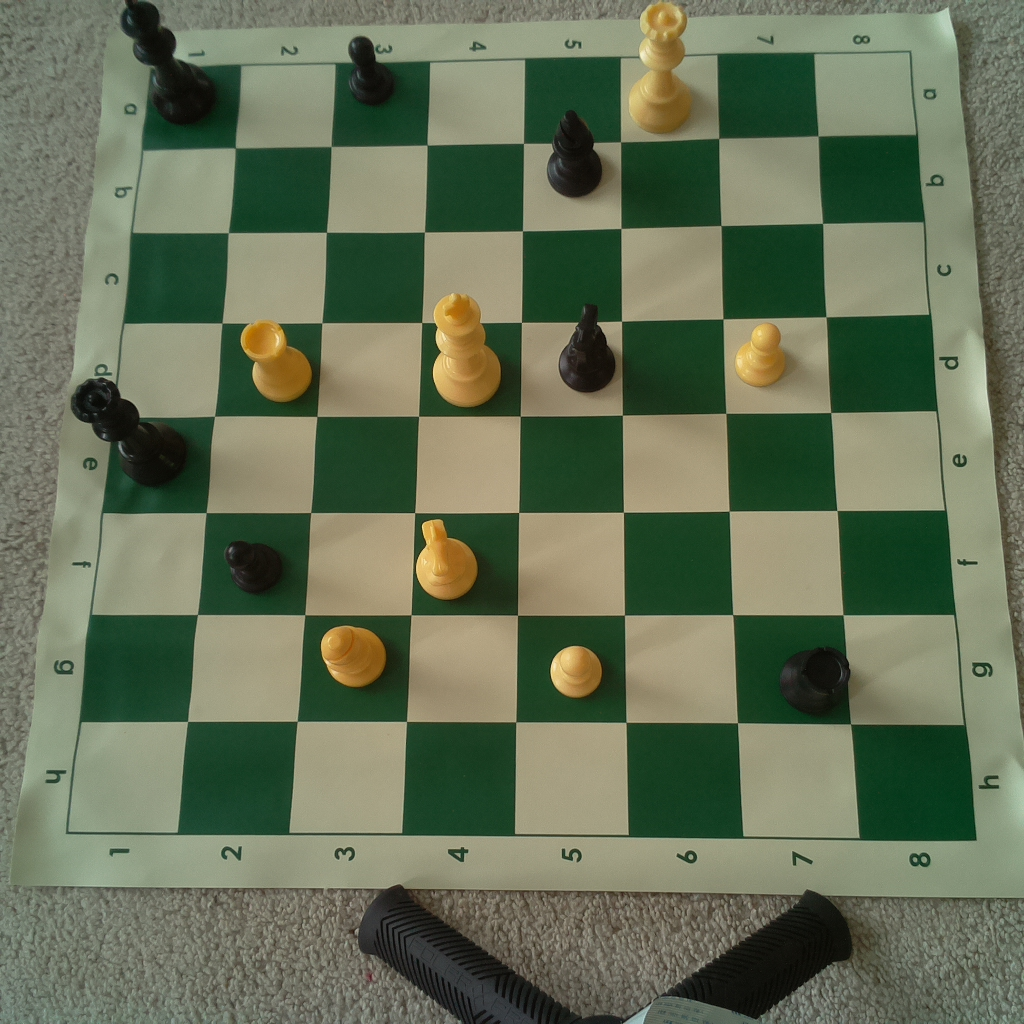black_bishop: (541, 108, 607, 200)
black_king: (116, 2, 215, 125)
black_knight: (551, 297, 619, 397)
black_pawn: (341, 32, 399, 110), (220, 534, 288, 599)
black_queen: (66, 378, 192, 487)
black_rook: (776, 636, 854, 715)
file_a: (144, 51, 915, 149)
file_b: (129, 136, 927, 234)
file_c: (124, 221, 931, 327)
file_d: (114, 313, 937, 422)
file_e: (103, 412, 946, 513)
file_f: (90, 512, 957, 613)
file_g: (79, 614, 968, 723)
file_h: (68, 722, 975, 838)
outline: (68, 51, 976, 838)
rank_1: (69, 62, 242, 835)
rank_2: (176, 64, 338, 834)
rank_3: (286, 62, 433, 834)
rank_4: (402, 64, 529, 838)
rank_5: (512, 60, 631, 836)
rank_6: (620, 54, 745, 836)
rank_7: (718, 53, 862, 835)
rank_8: (814, 54, 979, 838)
white_bishop: (312, 619, 390, 686)
white_king: (428, 288, 505, 409)
white_knight: (408, 514, 483, 608)
white_pawn: (731, 321, 797, 393), (546, 644, 607, 702)
white_queen: (620, 1, 699, 131)
white_rook: (238, 313, 311, 402)
